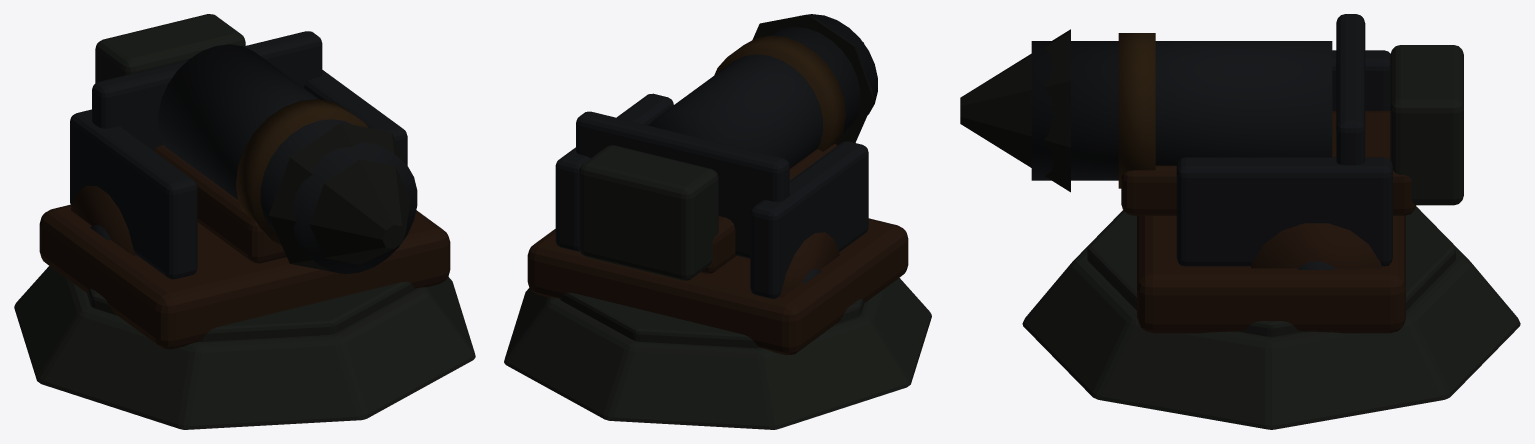
The model's file is TowerDestroy2_pose.obj.
3 renders of one model, left to right at view 1: azimuth 30°, elevation 25°; view 2: azimuth 150°, elevation 25°; view 3: azimuth 270°, elevation 25°, orthographic. The views are drawn at different scales.
Parts seen in each view (by area): view 1: rough_stone_foundation_lower_course, reinforced_oak_sled, black_ram_barrel, stone_breaker_head, iron_ram_cheek, iron_ram_mantle, stone_counterweight, rough_stone_foundation_upper_course, bronze_ram_band, oak_ram_bed, iron_ram_cheek.001, heavy_wood_wheel; view 2: rough_stone_foundation_lower_course, reinforced_oak_sled, stone_counterweight, black_ram_barrel, iron_ram_cheek, iron_ram_mantle, rough_stone_foundation_upper_course, bronze_ram_band, iron_ram_cheek.001, stone_breaker_head, heavy_wood_wheel, oak_ram_bed; view 3: rough_stone_foundation_lower_course, black_ram_barrel, reinforced_oak_sled, iron_ram_cheek.001, stone_counterweight, stone_breaker_head, rough_stone_foundation_upper_course, bronze_ram_band, oak_ram_bed, iron_ram_mantle, heavy_wood_wheel.001, iron_ram_cheek.
Part boxes in pixels (<box>): rough_stone_foundation_lower_course: <box>14,266,475,429</box>; reinforced_oak_sled: <box>39,204,450,349</box>; black_ram_barrel: <box>158,44,417,273</box>; stone_breaker_head: <box>269,122,410,273</box>; iron_ram_cheek: <box>70,109,197,279</box>; iron_ram_mantle: <box>92,31,322,150</box>; stone_counterweight: <box>95,14,245,83</box>; rough_stone_foundation_upper_course: <box>87,281,415,341</box>; bronze_ram_band: <box>236,99,368,245</box>; oak_ram_bed: <box>154,145,286,263</box>; iron_ram_cheek.001: <box>304,70,407,165</box>; heavy_wood_wheel: <box>71,185,136,255</box>; rough_stone_foundation_lower_course: <box>504,278,931,429</box>; reinforced_oak_sled: <box>527,218,908,355</box>; stone_counterweight: <box>579,145,718,280</box>; black_ram_barrel: <box>648,14,877,168</box>; iron_ram_cheek: <box>750,141,868,298</box>; iron_ram_mantle: <box>576,111,789,258</box>; rough_stone_foundation_upper_course: <box>560,292,864,348</box>; bronze_ram_band: <box>714,35,845,151</box>; iron_ram_cheek.001: <box>555,93,673,251</box>; stone_breaker_head: <box>752,14,873,145</box>; heavy_wood_wheel: <box>778,232,839,297</box>; oak_ram_bed: <box>700,144,837,273</box>; rough_stone_foundation_lower_course: <box>1022,206,1520,429</box>; black_ram_barrel: <box>1031,41,1332,180</box>; reinforced_oak_sled: <box>1137,215,1405,333</box>; iron_ram_cheek.001: <box>1176,157,1392,266</box>; stone_counterweight: <box>1390,45,1463,205</box>; stone_breaker_head: <box>960,29,1070,192</box>; rough_stone_foundation_upper_course: <box>1087,207,1455,336</box>; bronze_ram_band: <box>1118,33,1155,188</box>; oak_ram_bed: <box>1121,111,1415,215</box>; iron_ram_mantle: <box>1336,14,1365,165</box>; heavy_wood_wheel.001: <box>1251,223,1381,268</box>; iron_ram_cheek: <box>1332,50,1390,110</box>.
Size of the model in its own units: 1.89 by 1.23 by 2.12.
